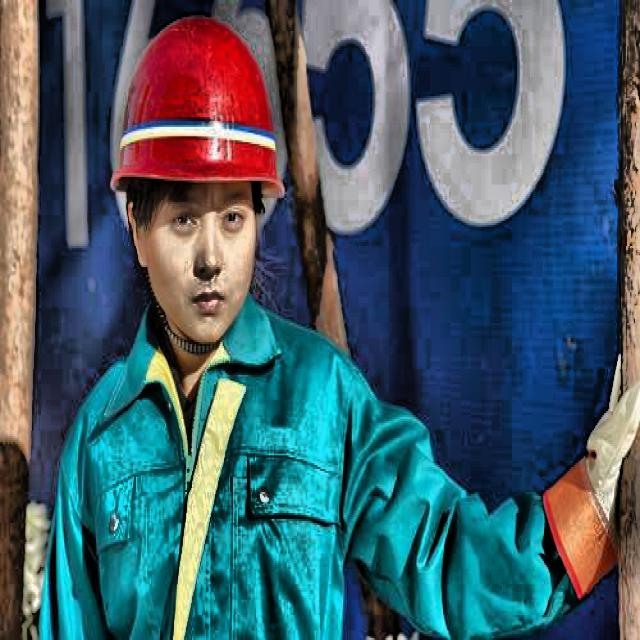helmet: (94, 4, 304, 369)
